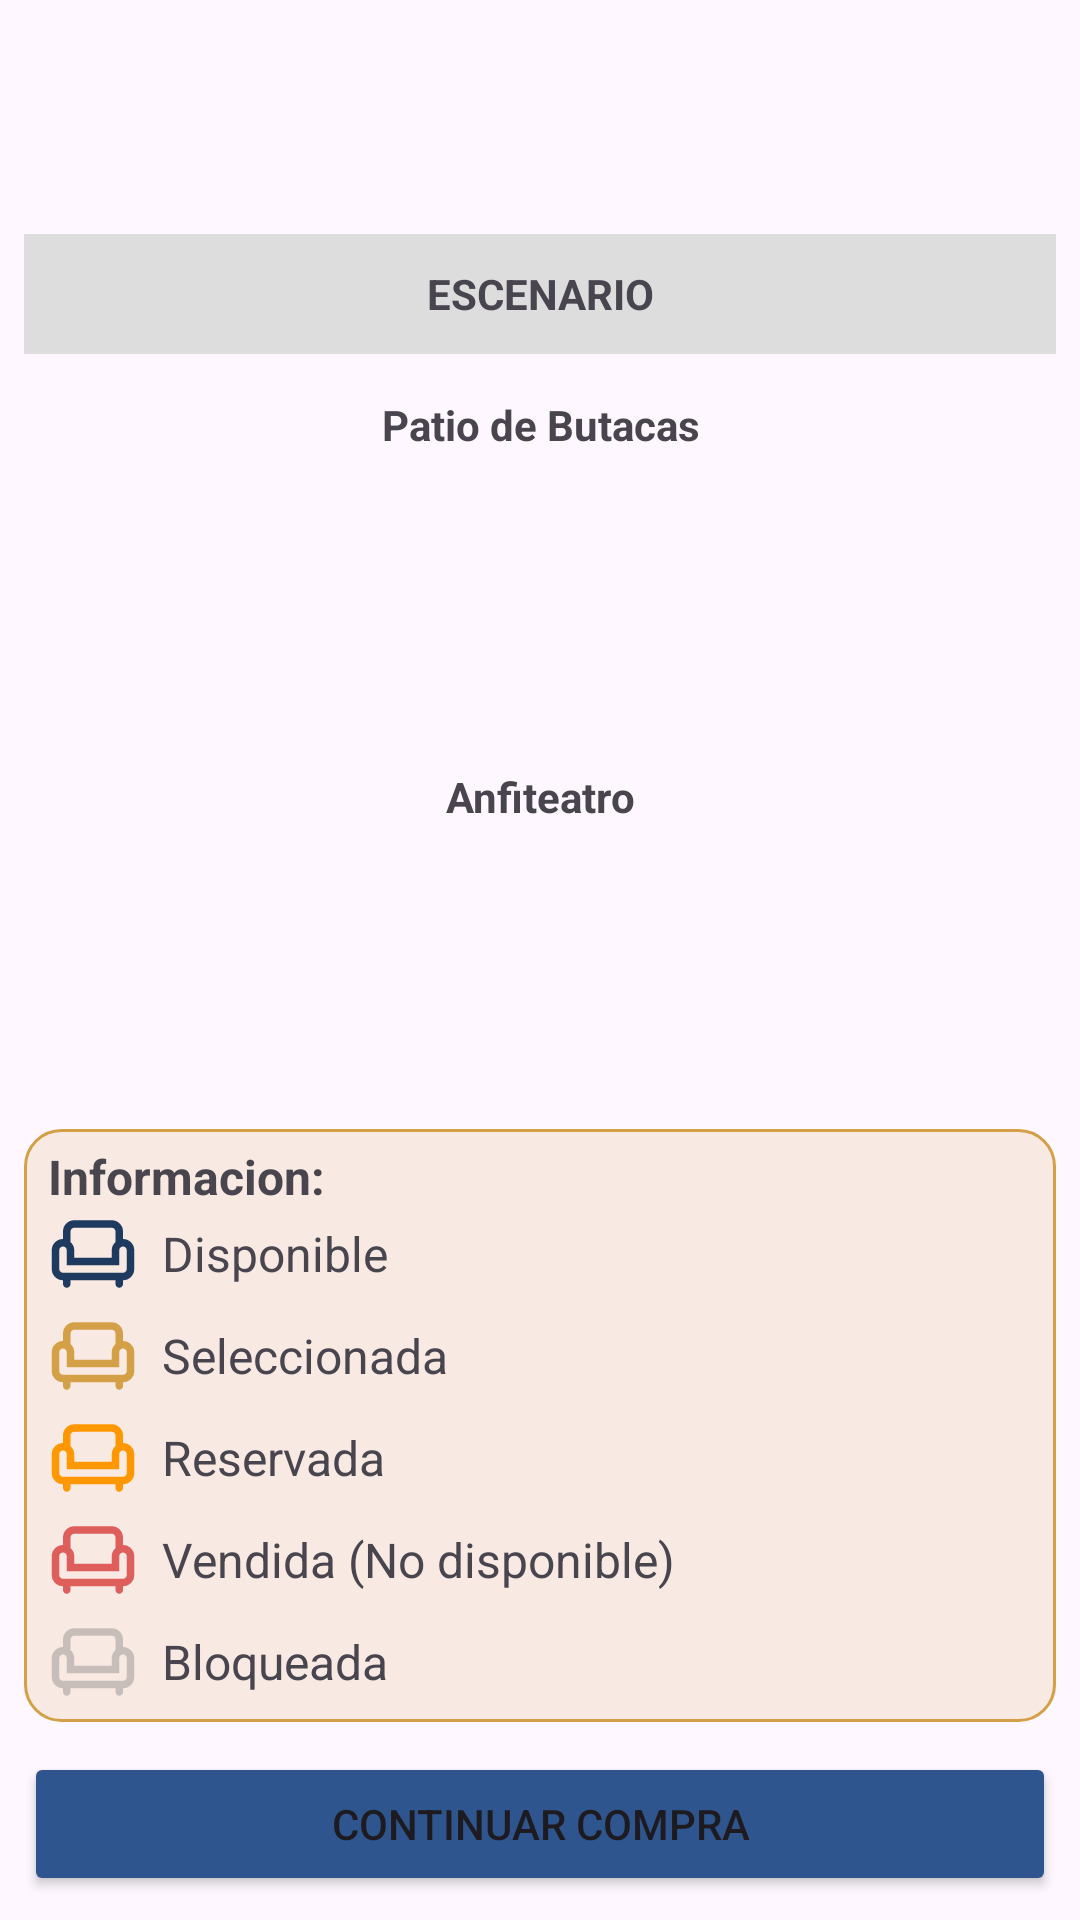

Screen size 1080×1920. Icon name, then its center in pixels as [x,y]:
asiento: [93,1254], [93,1356], [93,1458], [93,1560], [93,1662]
